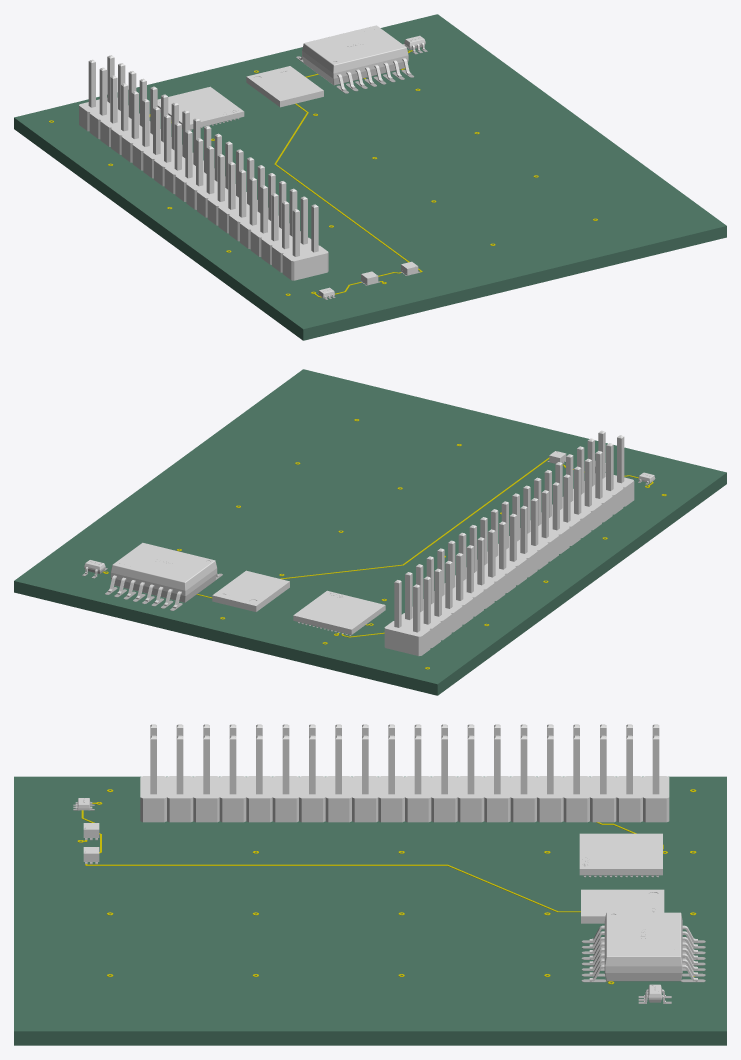
The model's file is ccm_routed.glb.
3 views of the same model, one above another, from view 1: azimuth 30°, elevation 25°; view 2: azimuth 150°, elevation 25°; view 3: azimuth 270°, elevation 25° (orthographic). The views are drawn at different scales.
Visible parts, largest first — view 1: =>[0:1:1:13], J_B2B, U3, U2, U1, =>[0:1:1:10]; view 2: =>[0:1:1:13], J_B2B, U3, U1, U2, =>[0:1:1:10]; view 3: =>[0:1:1:13], J_B2B, U3, U1, U2, =>[0:1:1:10], =>[0:1:1:11].
Boxes of the visible parts, x1,y1,x2,y2 form: =>[0:1:1:13]: (14, 14, 726, 340); J_B2B: (79, 55, 328, 280); U3: (299, 25, 411, 90); U2: (246, 66, 323, 107); U1: (157, 86, 244, 129); =>[0:1:1:10]: (49, 50, 597, 297); =>[0:1:1:13]: (14, 369, 726, 695); J_B2B: (384, 430, 634, 655); U3: (108, 542, 219, 608); U1: (293, 590, 385, 634); U2: (212, 570, 289, 611); =>[0:1:1:10]: (102, 419, 666, 669); =>[0:1:1:13]: (14, 776, 726, 1045); J_B2B: (140, 724, 669, 822); U3: (589, 912, 697, 981); U1: (579, 833, 662, 876); U2: (581, 889, 664, 923); =>[0:1:1:10]: (77, 789, 696, 984); =>[0:1:1:11]: (73, 804, 705, 1003).
Bounding box in the file's own units: 0.0579 × 0.0115 × 0.0685.
